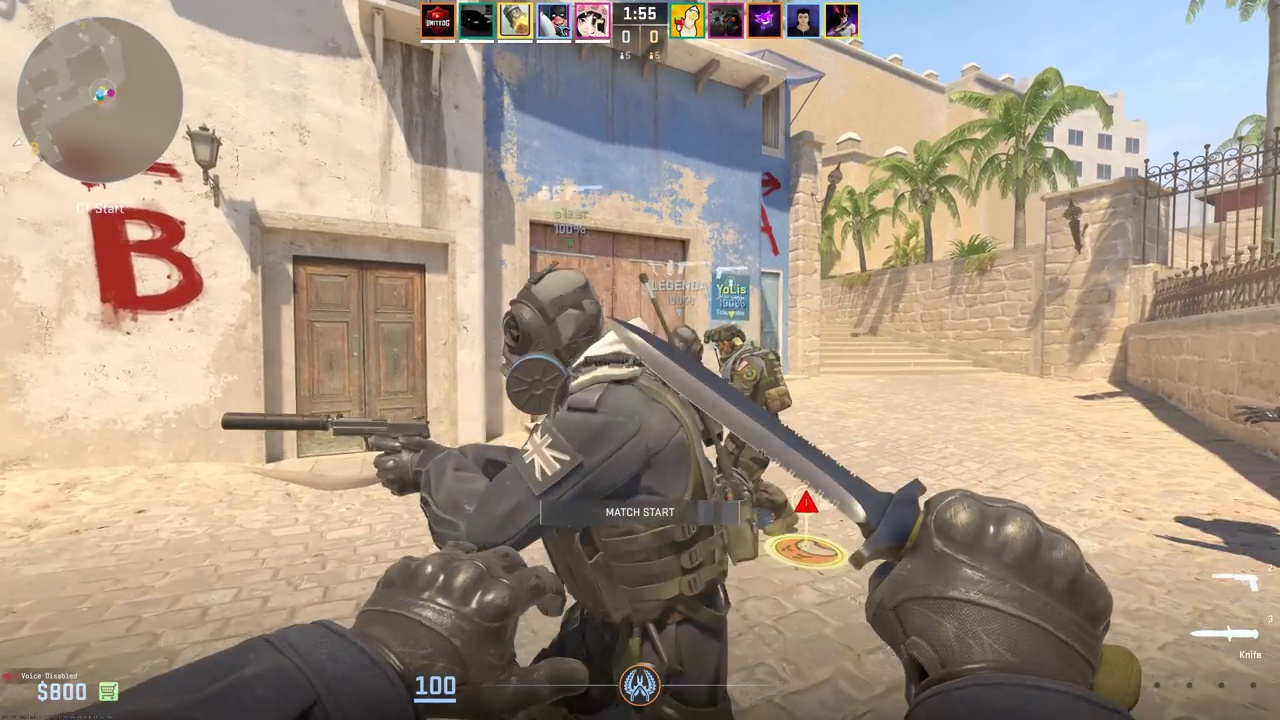CT: (500, 270, 729, 710), (713, 322, 780, 524)
